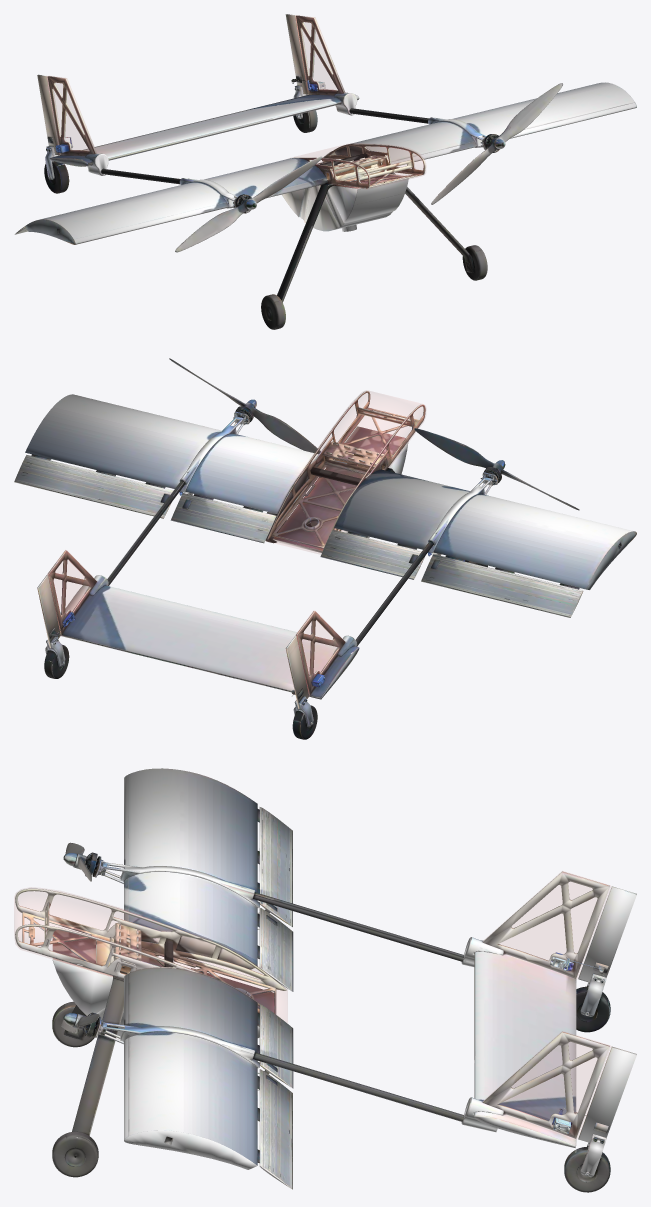
File: micro-2026.glb
3 views of the same model, one above another, from view 1: azimuth 30°, elevation 25°; view 2: azimuth 150°, elevation 25°; view 3: azimuth 270°, elevation 25° (orthographic). The views are drawn at different scales.
Visible parts, largest first — view 1: g Body1:77.001, Cube, Plane, Plane.001; view 2: g Body1:77.001, Cube, Plane.001, Plane; view 3: g Body1:77.001, Cube, Plane, Plane.001.
Boxes of the visible parts, <box> form: g Body1:77.001: <box>14,14,636,329</box>; Cube: <box>293,144,425,188</box>; Plane: <box>47,78,88,149</box>; Plane.001: <box>296,21,336,90</box>; g Body1:77.001: <box>14,358,636,739</box>; Cube: <box>266,391,425,553</box>; Plane.001: <box>54,560,88,611</box>; Plane: <box>302,621,337,672</box>; g Body1:77.001: <box>15,768,636,1192</box>; Cube: <box>14,887,287,1022</box>; Plane: <box>500,882,610,977</box>; Plane.001: <box>500,1032,610,1137</box>.
Bounding box in the file's own units: 1.2 × 0.3394 × 0.8729.
3 materials, 2 textured.
